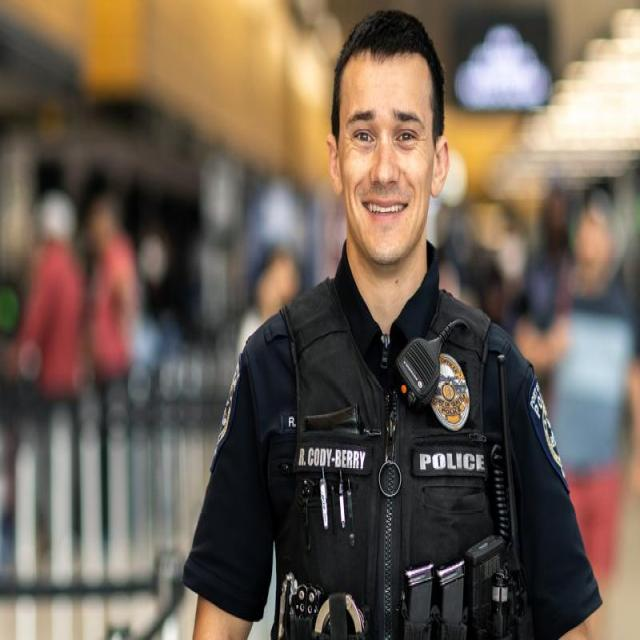police: (189, 4, 597, 640)
